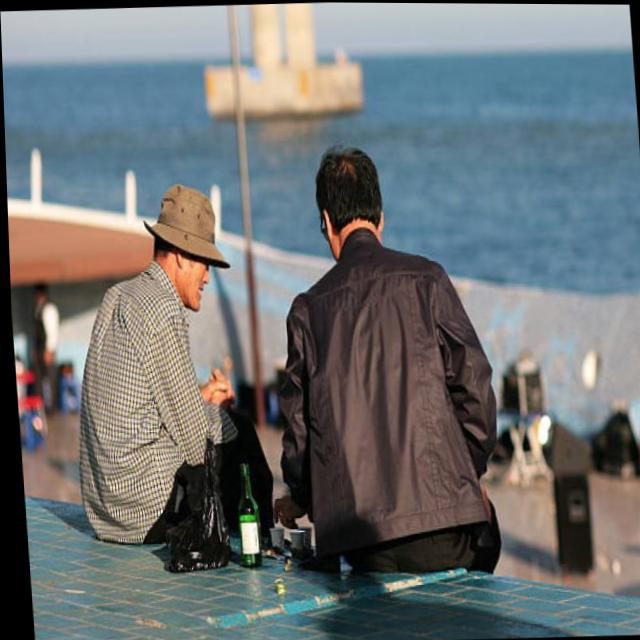no helmet: (306, 134, 391, 264)
